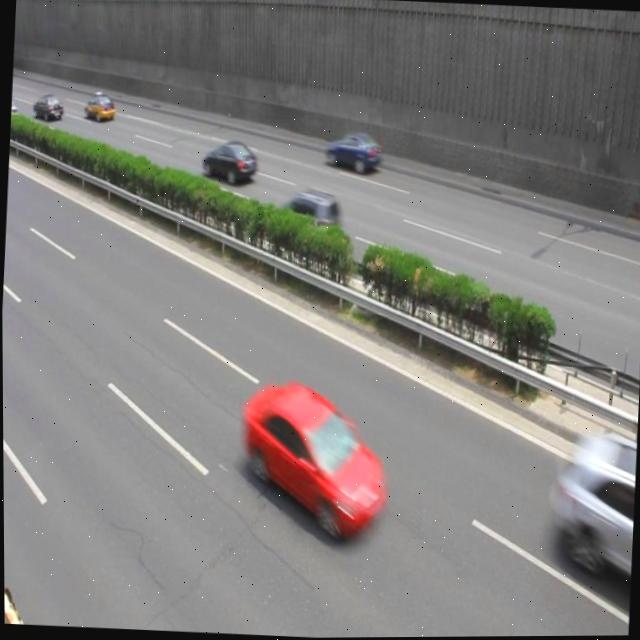car: (235, 374, 391, 542), (548, 430, 638, 589), (278, 184, 341, 255), (198, 140, 258, 188), (322, 131, 382, 175), (83, 89, 118, 124), (32, 93, 64, 123)
